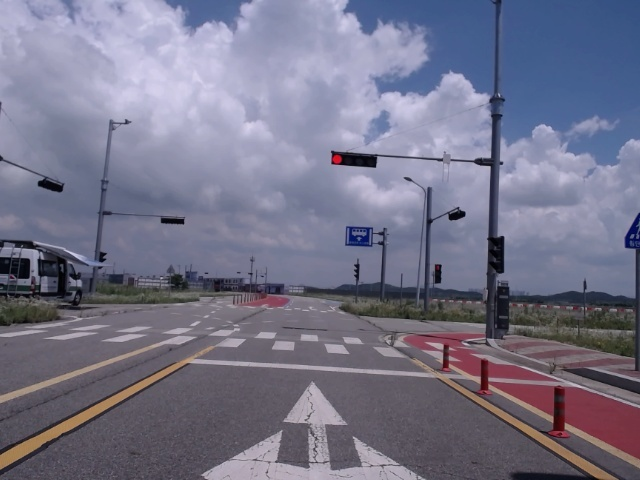red_4: (332, 154, 376, 168)
